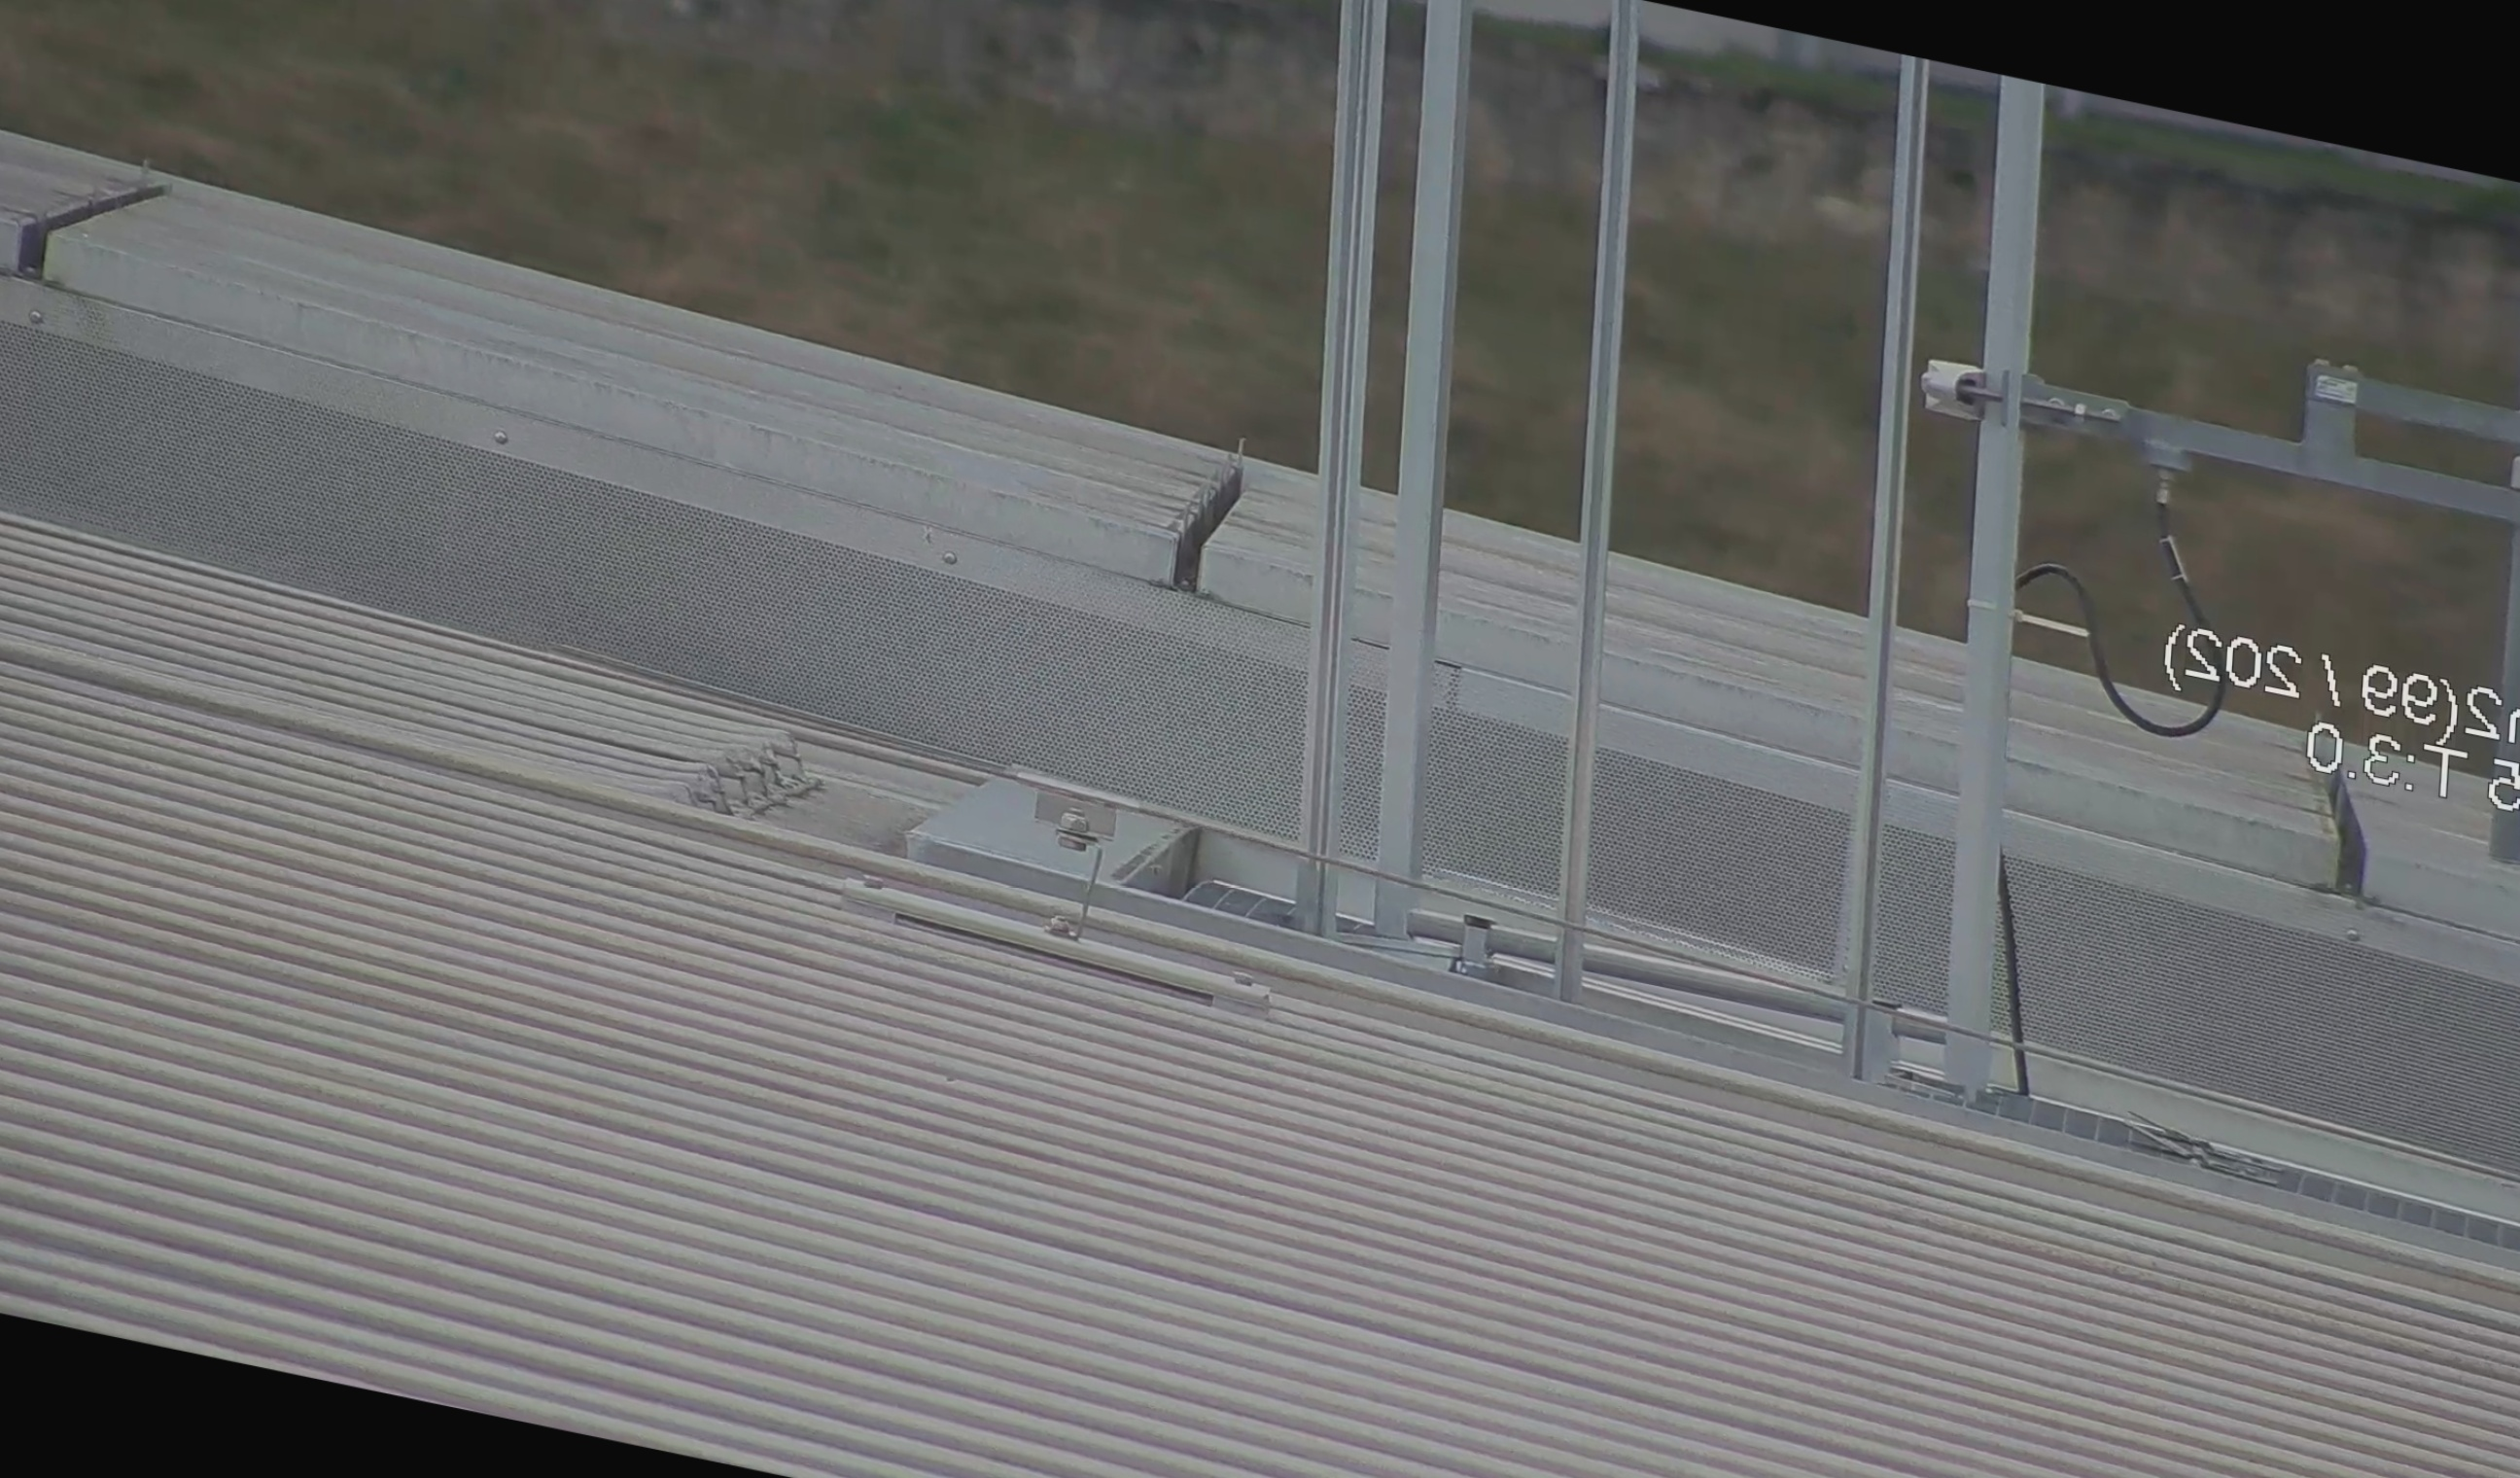Other: (1138, 415, 1270, 611)
